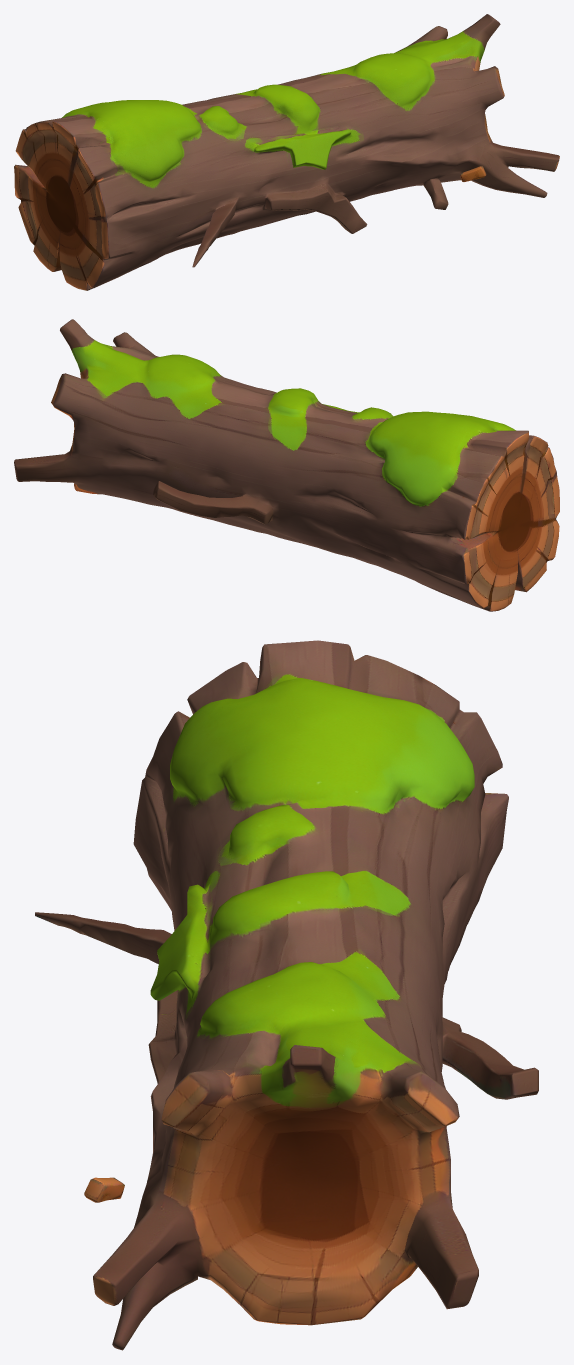
The model's file is forest_deadfall_log.glb.
3 renders of one model, top to bottom at view 1: azimuth 30°, elevation 25°; view 2: azimuth 150°, elevation 25°; view 3: azimuth 270°, elevation 25°, orthographic. The views are drawn at different scales.
Size of the model in its own units: 1.91 by 0.638 by 0.9198.
1 material, 1 textured.
